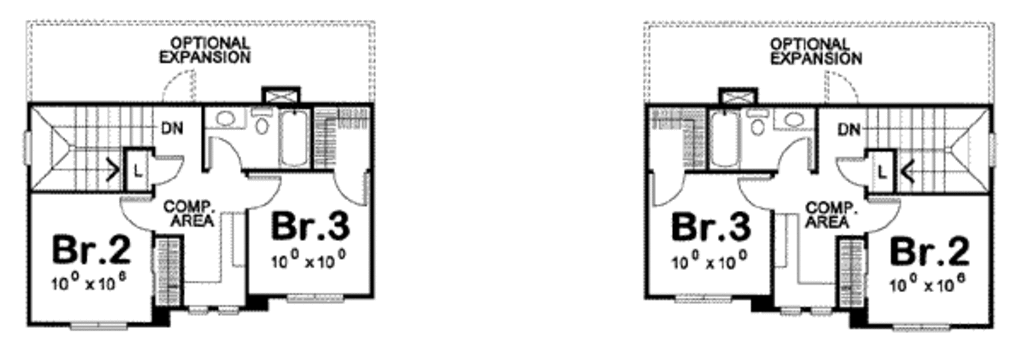door: (116, 192, 169, 234), (821, 65, 870, 107), (202, 130, 241, 175), (240, 169, 286, 207), (646, 169, 689, 209), (862, 194, 903, 235), (141, 151, 189, 186), (734, 172, 775, 211), (774, 138, 817, 175), (836, 153, 872, 192), (334, 172, 371, 208), (162, 70, 201, 102)
large_sink: (246, 104, 278, 142), (749, 105, 767, 144)
small_sink: (199, 104, 248, 130), (774, 105, 815, 128)
stairs: (864, 104, 988, 192), (28, 103, 154, 188)
tub: (708, 104, 743, 171), (279, 108, 314, 172)
window: (672, 286, 735, 308), (286, 290, 344, 307), (892, 320, 954, 334), (66, 321, 128, 335), (181, 303, 239, 317), (984, 131, 1003, 168), (809, 301, 835, 318), (780, 303, 803, 315)
